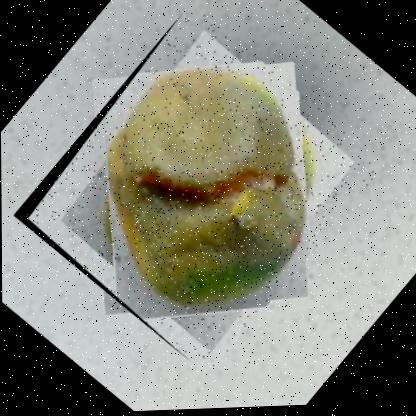orange_rotten: (9, 0, 385, 384)
